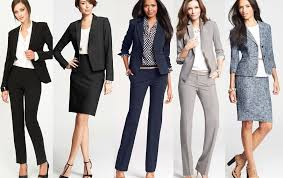F_W_pants: (114, 72, 170, 171), (178, 68, 220, 178), (5, 66, 47, 164)
F_W_suit jacket: (55, 17, 116, 81), (1, 21, 55, 86)
F_tailored skirt: (231, 72, 277, 132), (68, 59, 105, 127)
